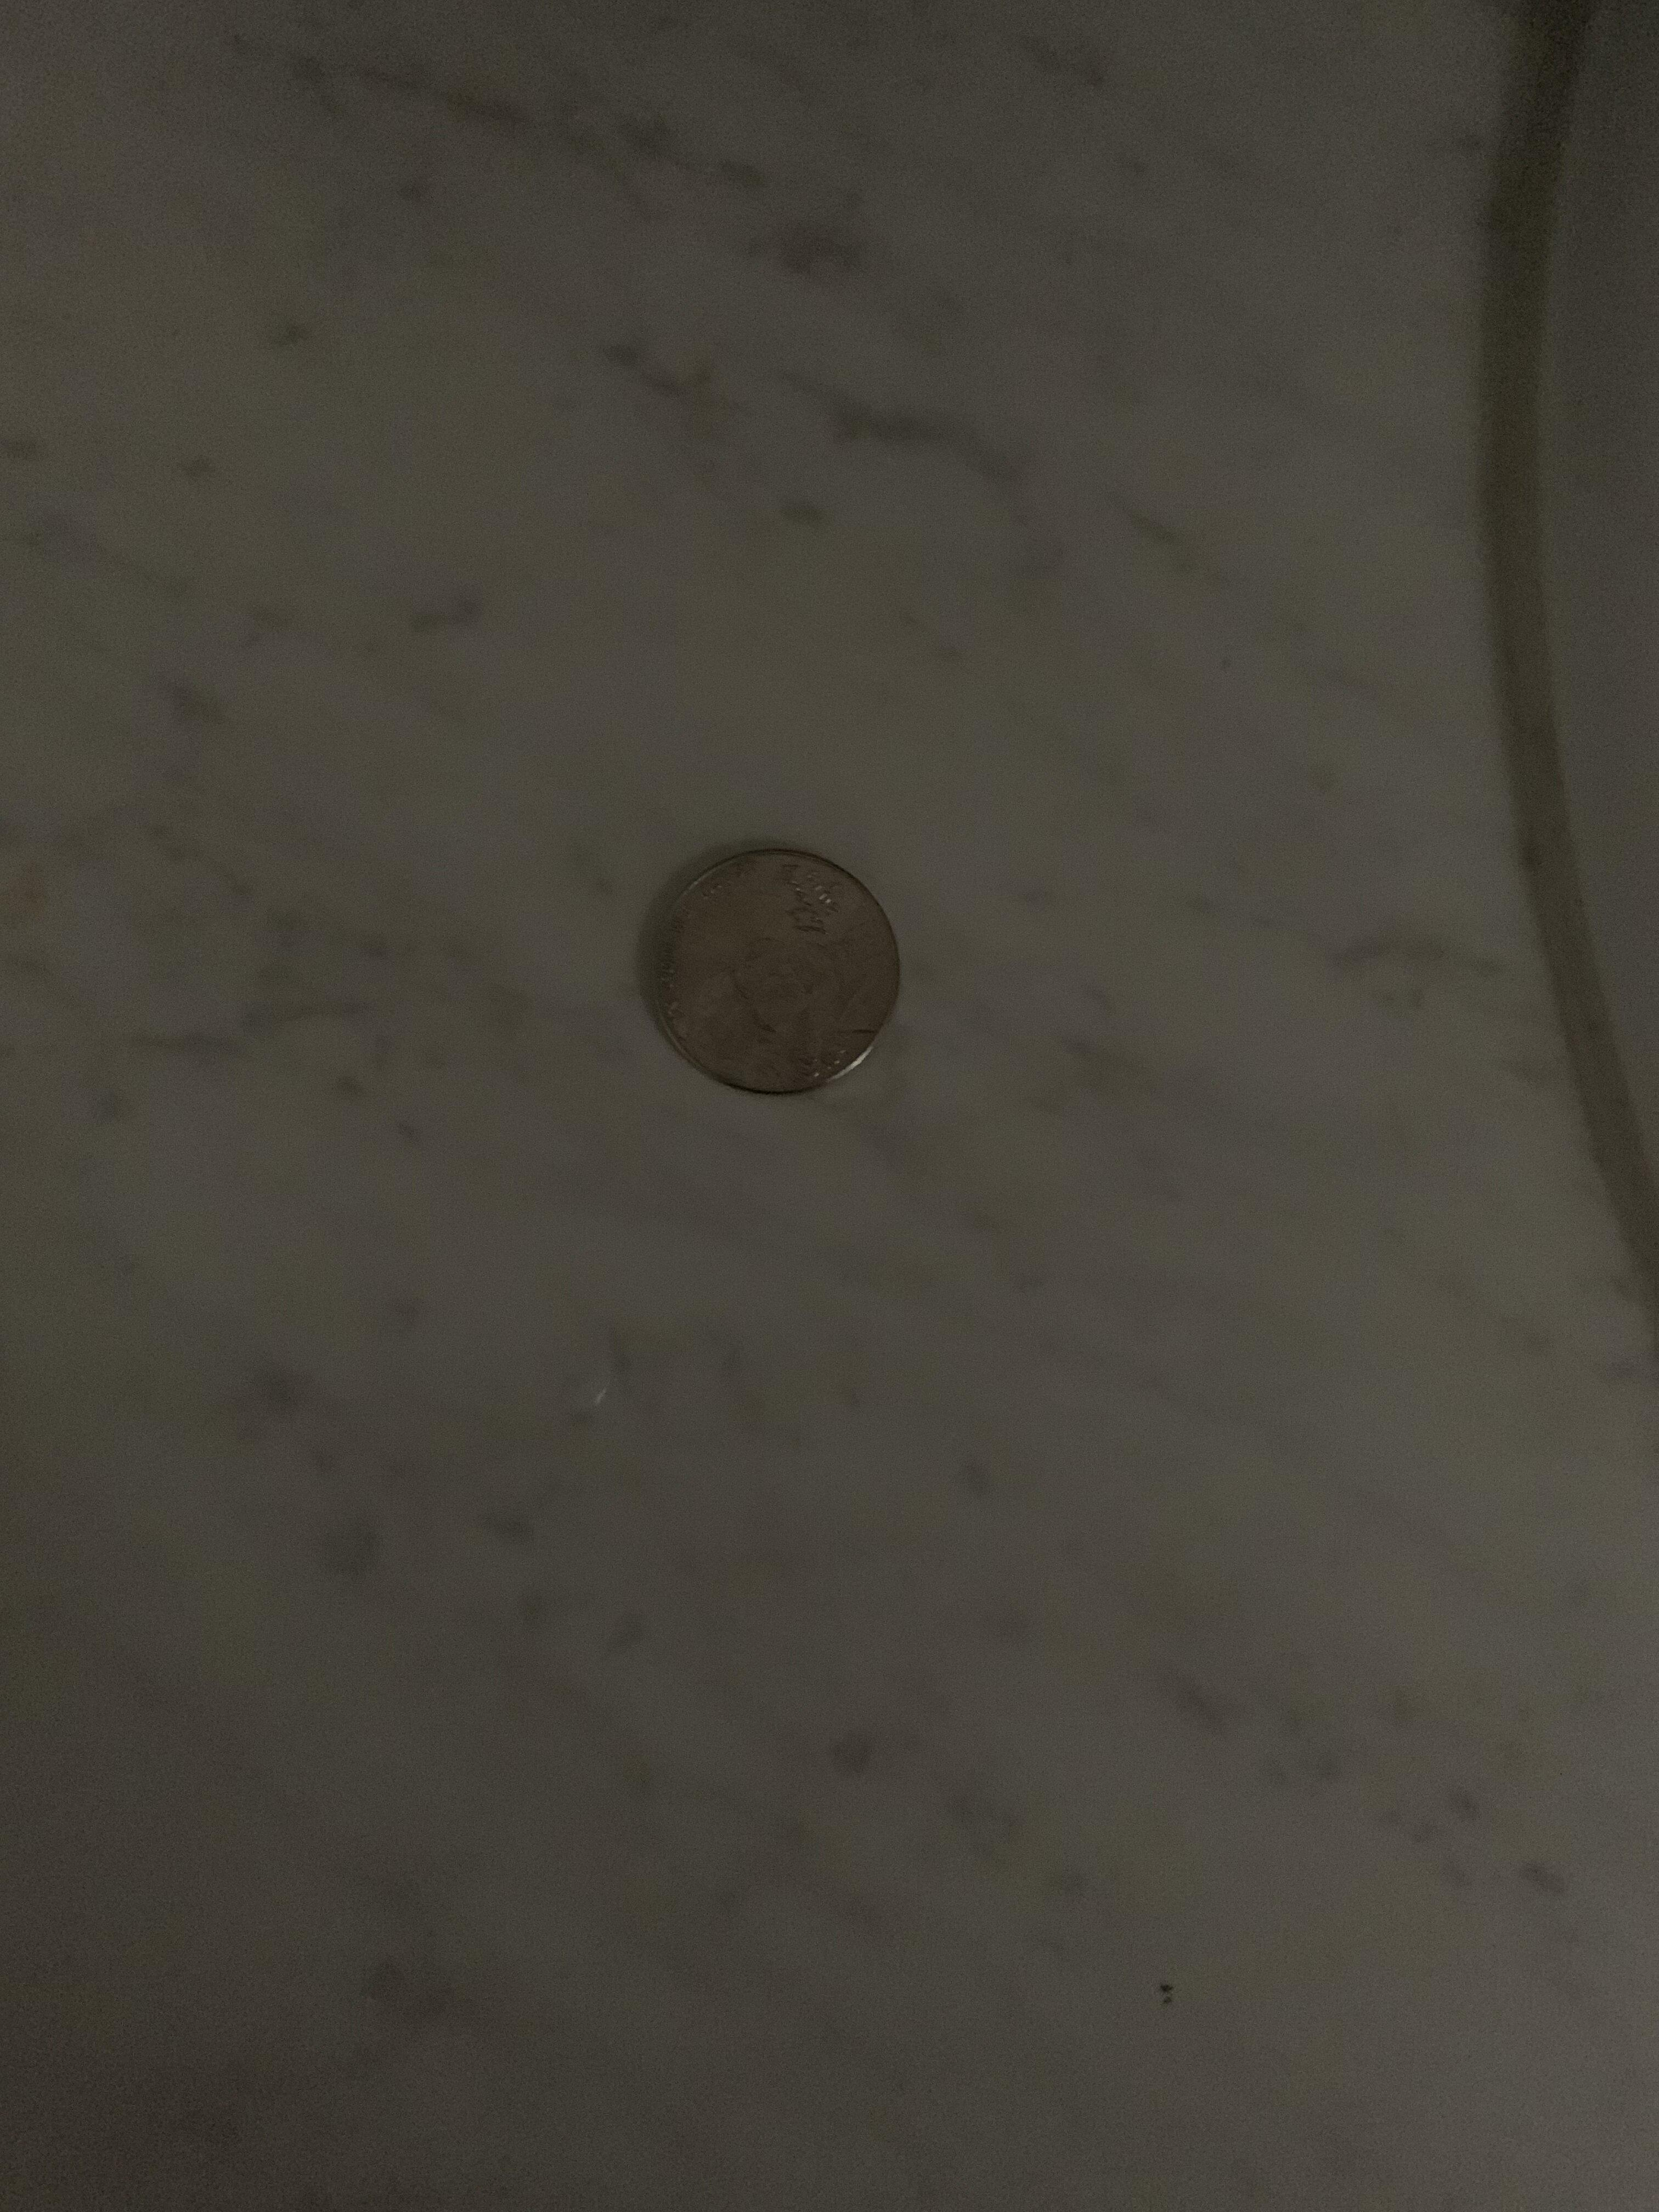Nickel: (582, 829, 964, 1129)
